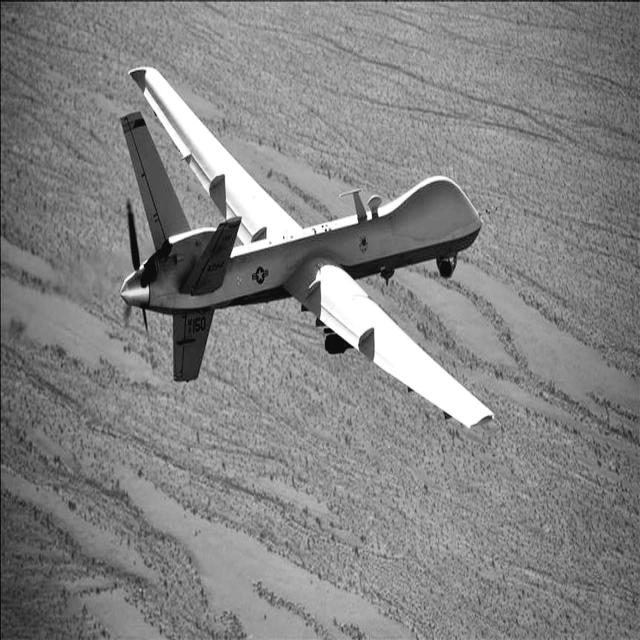iha: (56, 0, 492, 428)
